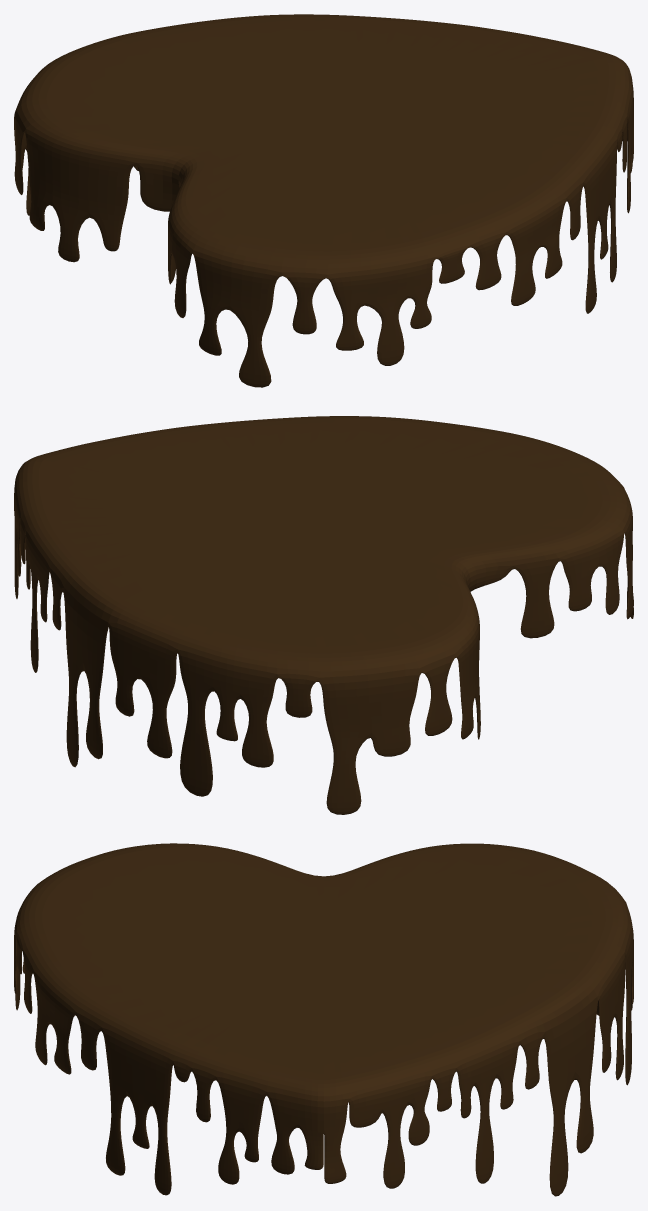
Rendered from GlazeChoco2.glb.
The picture shows the model from 3 angles, top to bottom: view 1: azimuth 30°, elevation 25°; view 2: azimuth 150°, elevation 25°; view 3: azimuth 270°, elevation 25°; orthographic projection.
Parts seen in each view (by area): view 1: Cylinder.009; view 2: Cylinder.009; view 3: Cylinder.009.
Part boxes in pixels (x1,y1,x2,y2): Cylinder.009: (14,14,633,387); Cylinder.009: (14,416,633,814); Cylinder.009: (14,843,633,1196).
Bounding box in the file's own units: 1.63 × 0.555 × 1.66.
